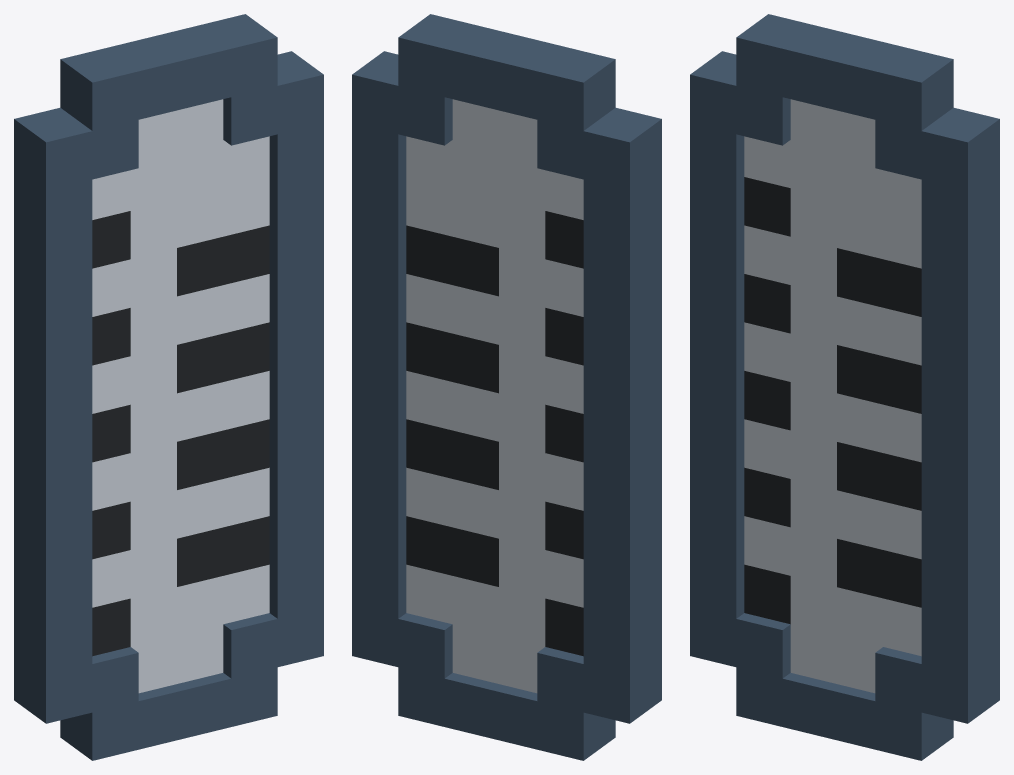
Rendered from Generator Decoration 1.glb.
The picture shows the model from 3 angles, left to right: view 1: azimuth 30°, elevation 25°; view 2: azimuth 150°, elevation 25°; view 3: azimuth 330°, elevation 25°; orthographic projection.
Parts seen in each view (by area): view 1: generated(Clone); view 2: generated(Clone); view 3: generated(Clone).
Boxes of the visible parts, x1,y1,x2,y2 form: generated(Clone): (14, 14, 323, 760); generated(Clone): (352, 14, 661, 760); generated(Clone): (690, 14, 999, 760).
Size of the model in its own units: 6 by 14 by 1.2.
Materials: 1 (1 with a texture image).
